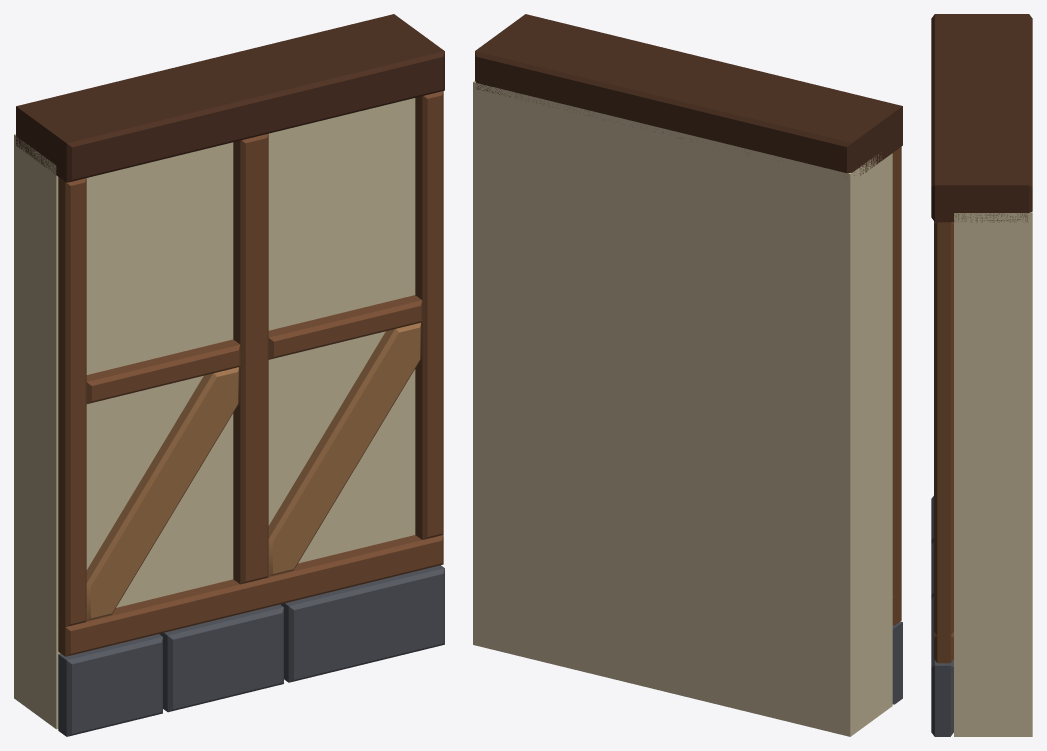
File: WallStraight_02.glb
3 renders of one model, left to right at view 1: azimuth 30°, elevation 25°; view 2: azimuth 150°, elevation 25°; view 3: azimuth 270°, elevation 25°, orthographic. The views are drawn at different scales.
Parts seen in each view (by area): view 1: WallStraight_02; view 2: WallStraight_02; view 3: WallStraight_02.
Part boxes in pixels (x1,y1,x2,y2): WallStraight_02: (14, 14, 444, 736); WallStraight_02: (473, 14, 902, 736); WallStraight_02: (931, 14, 1032, 736).
Size of the model in its own units: 8 by 12 by 2.
